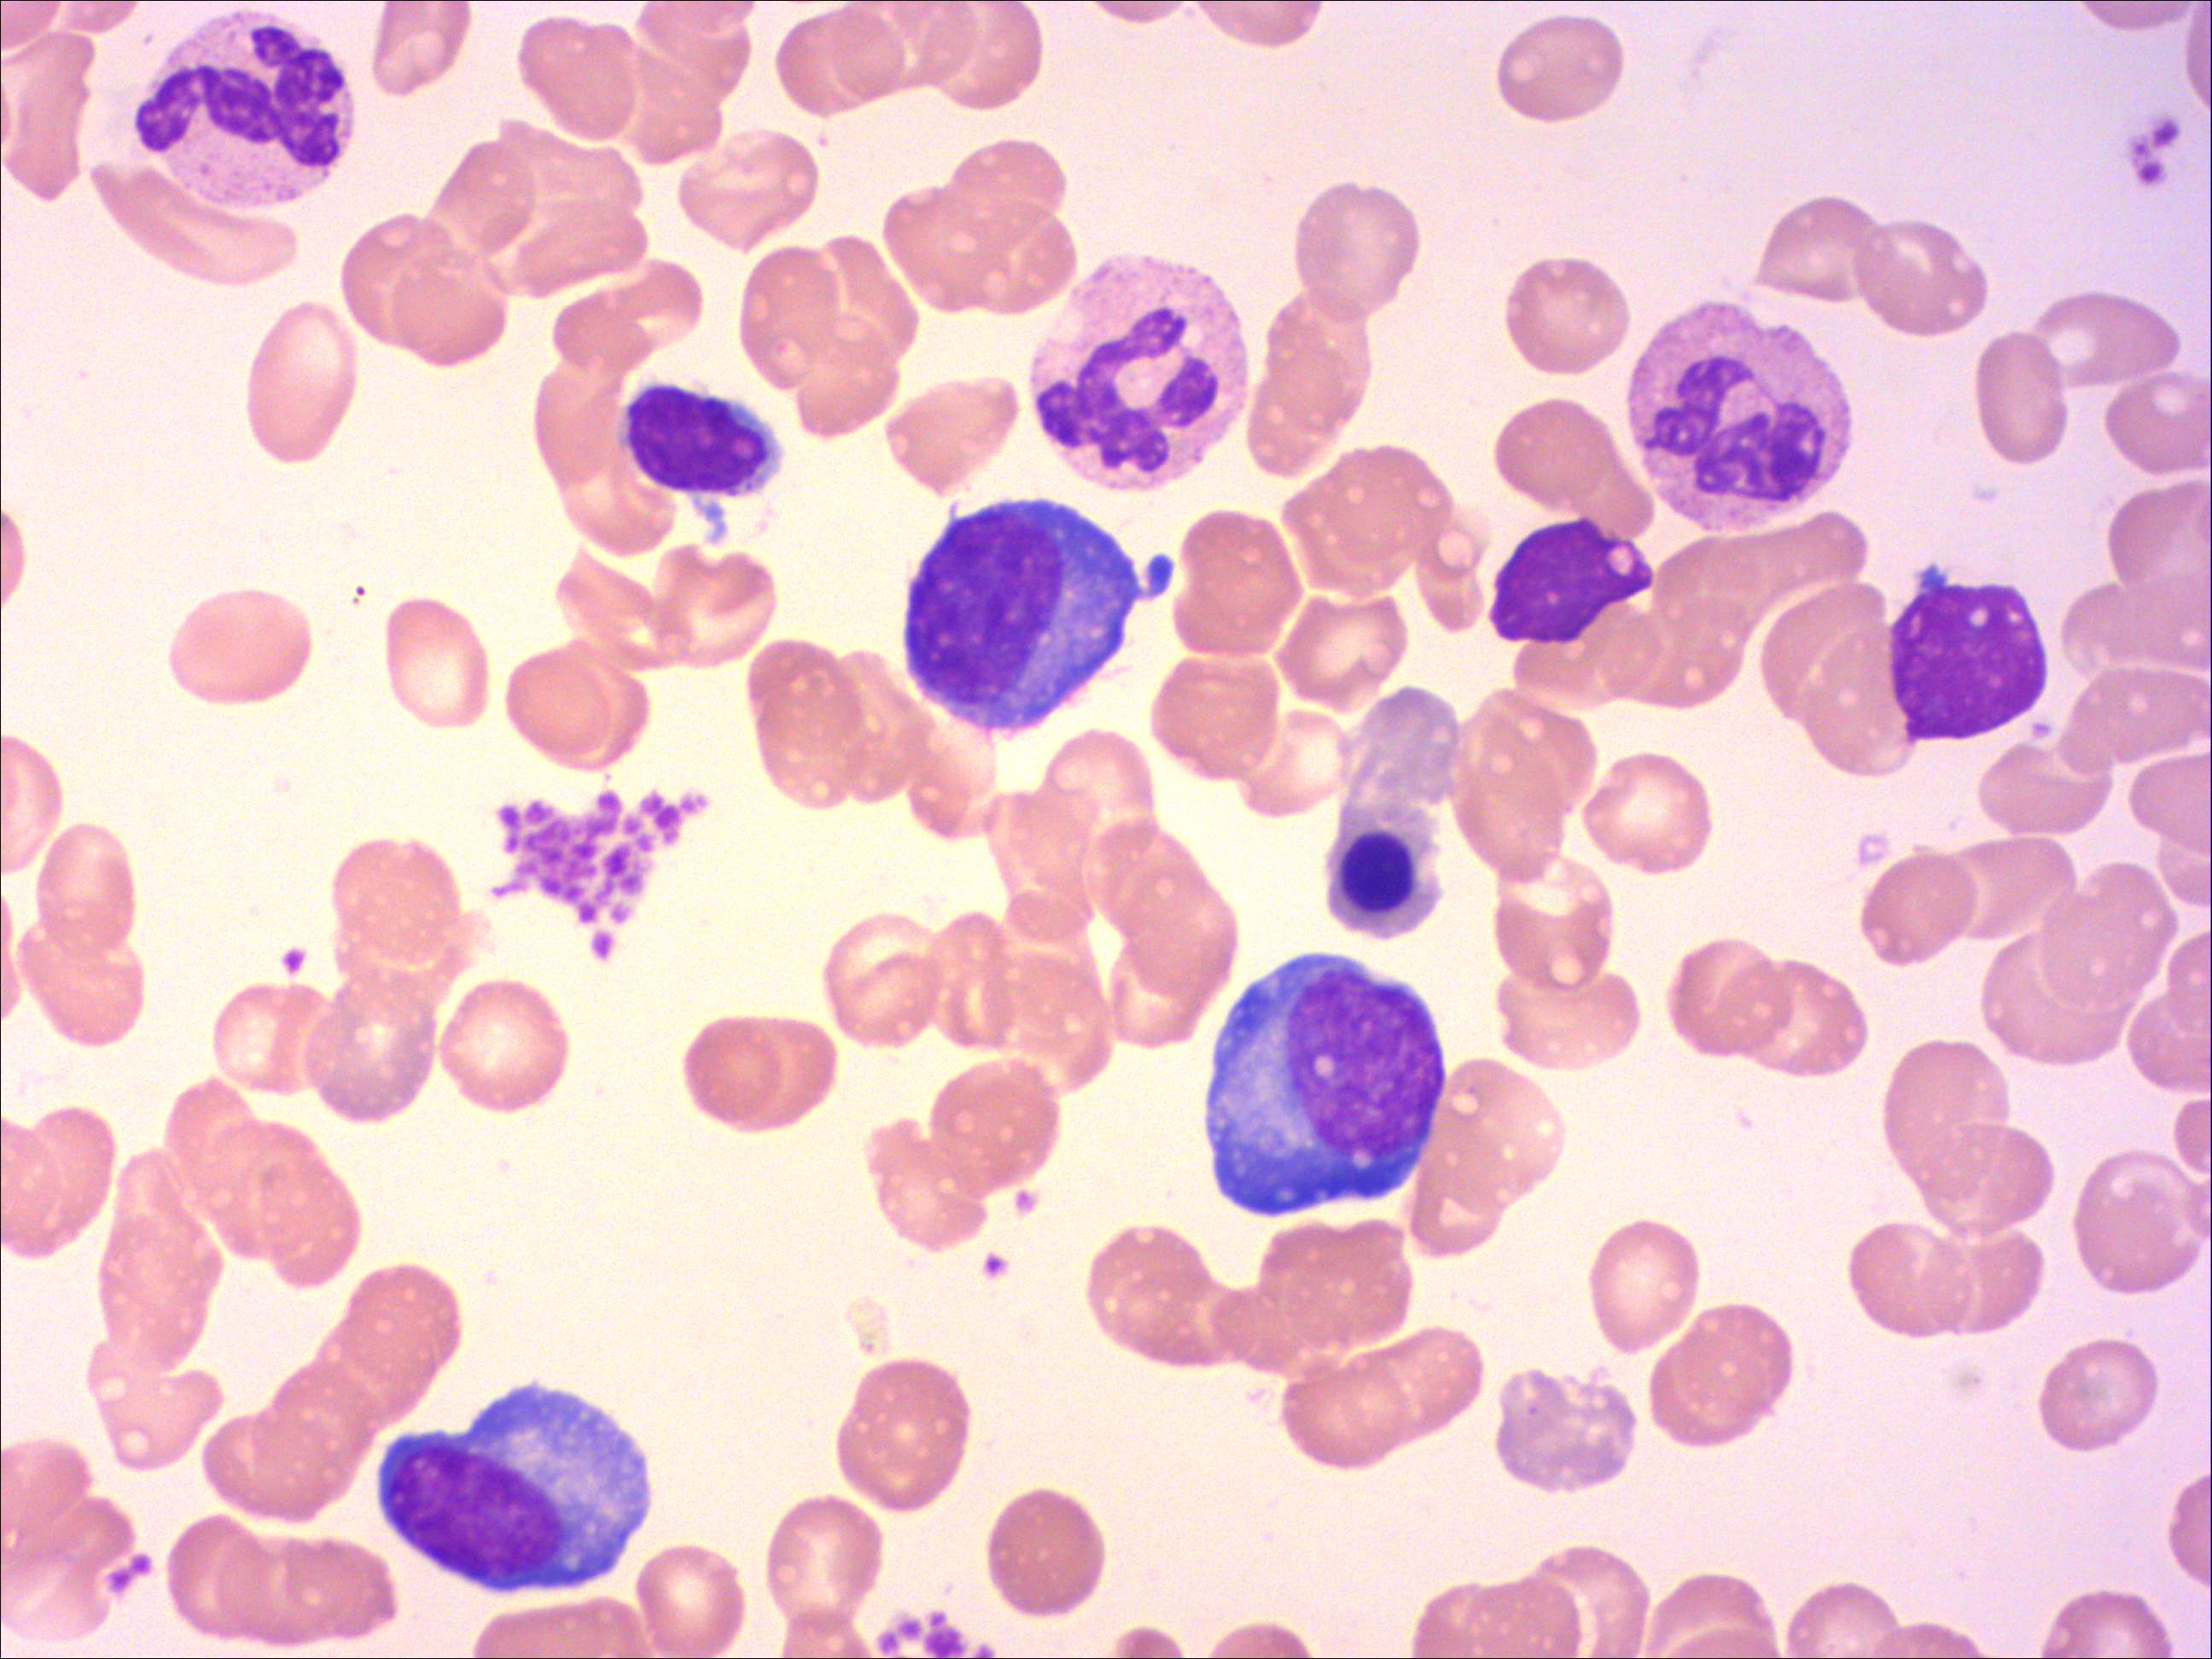24: (1320, 680, 1467, 948)
32: (620, 373, 789, 504)
51: (897, 493, 1179, 744), (1202, 950, 1449, 1223)
6: (1623, 300, 1858, 542), (132, 10, 359, 218)
x: (373, 1375, 655, 1601), (1883, 559, 2055, 748), (1482, 512, 1660, 653)
